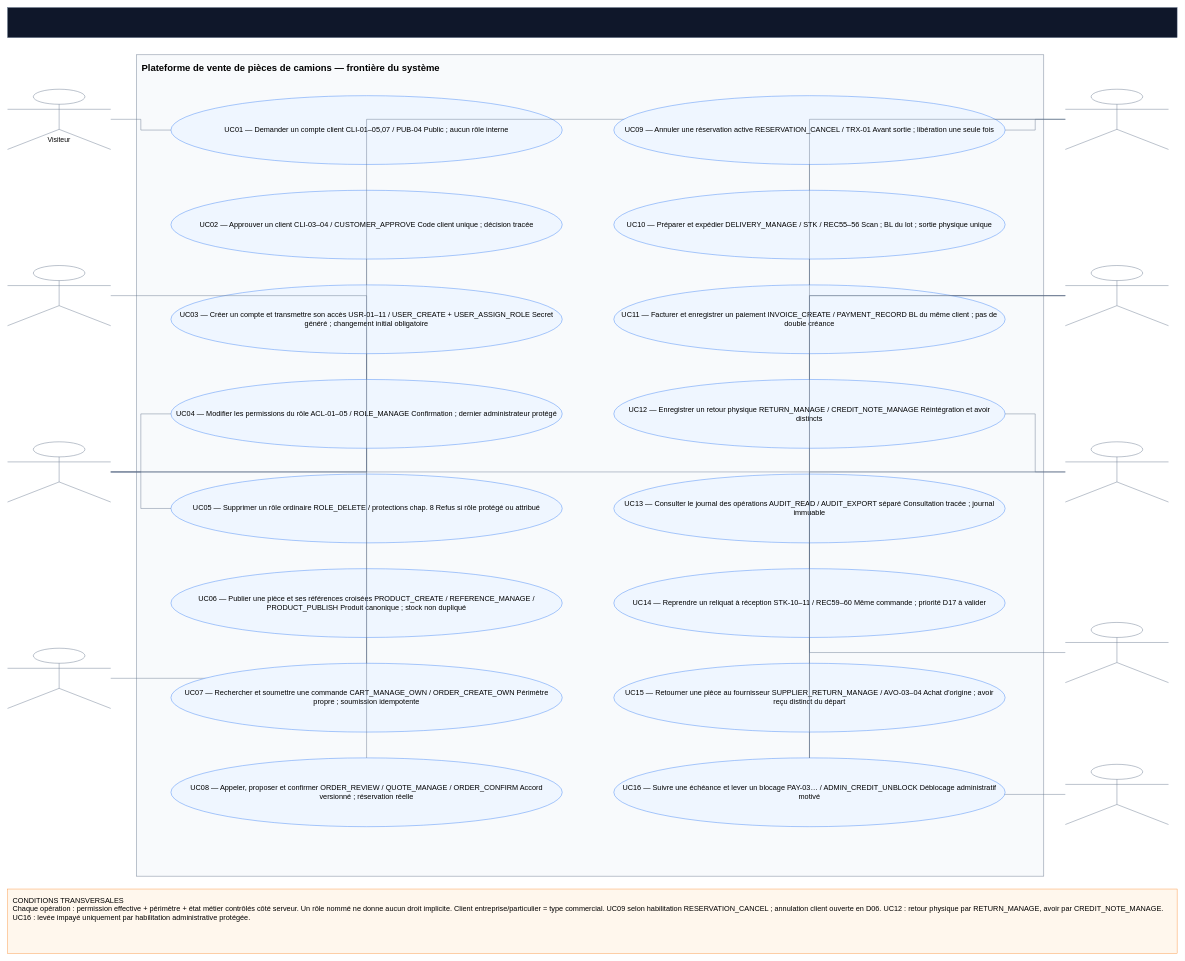
Image size: 1185x961. Some labels were removed from this diagram. The centre of each missing label's shape, as x and y in pixels:
Administration / responsable habilité aux accès: the point at 59,471
Agent retours fournisseur habilité: the point at 1117,794
Client approuvé Particulier ou Entreprise: the point at 59,295
Commercial habilité: the point at 1117,119
Facturation habilitée: the point at 1117,471
FTP — Diagramme de cas d’utilisation | UC01–UC16 | V3 / v0.2 pour revue: the point at 592,22
Gestionnaire catalogue habilité: the point at 59,678
Lecteur audit habilité: the point at 1117,652
Magasinier habilité: the point at 1117,295
